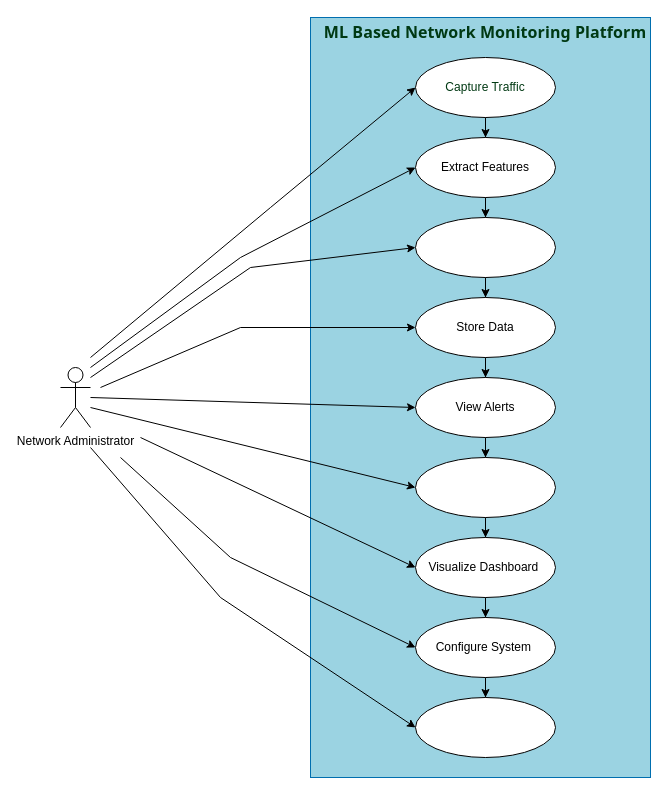
Some shapes in this 668 by 803 pixel diagram are drawn without their labels. The box of each missing label's shape, as (x1, y1, x2, y2) in pixels:
Acknowledge Alerts: (414, 456, 556, 518)
Detect Anomalies: (414, 216, 556, 278)
Manage Users: (414, 696, 556, 758)
